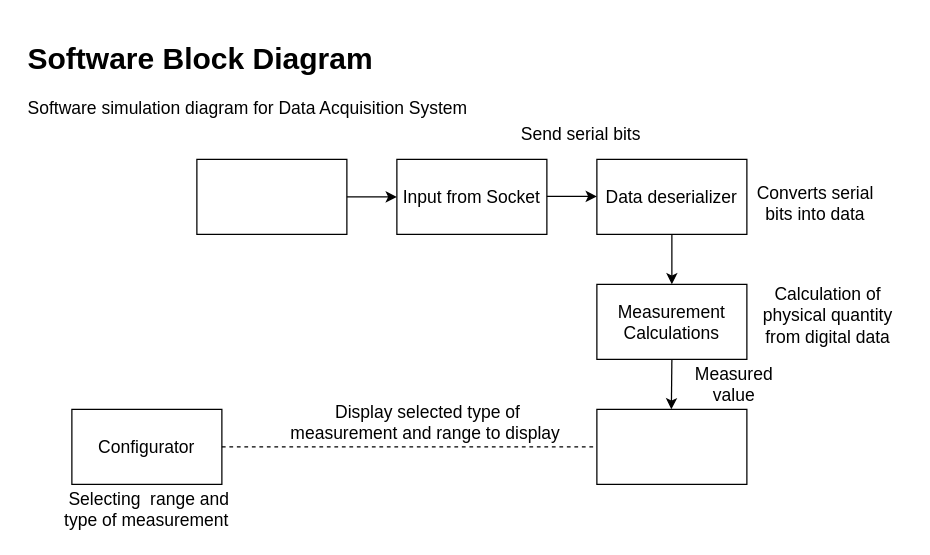
The diagram is 930 pixels wide and 555 high, and some of its shapes have lost their labels. Each missing label, with the centre of its shape:
Display: the point at 671,446
Input from hardware simulation: the point at 271,196
